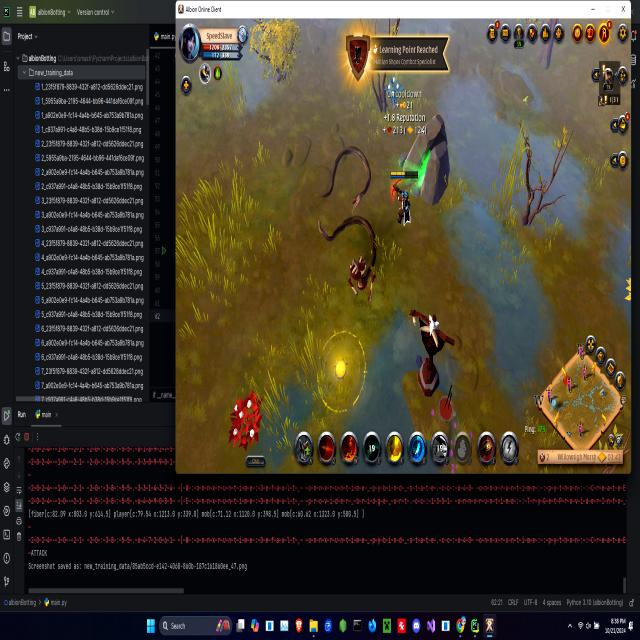hide: (221, 386, 268, 457), (384, 76, 410, 110)
red: (384, 167, 421, 229)
